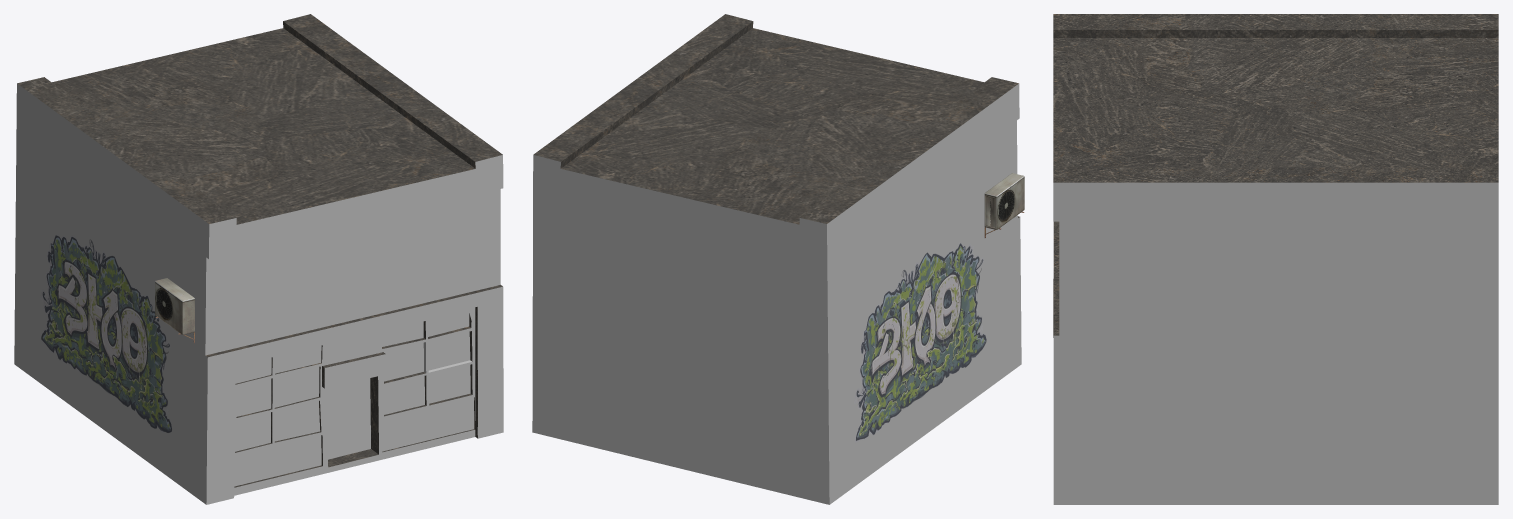
3 renders of one model, left to right at view 1: azimuth 30°, elevation 25°; view 2: azimuth 150°, elevation 25°; view 3: azimuth 270°, elevation 25°, orthographic. The views are drawn at different scales.
Visible parts, largest first — view 1: Building4; view 2: Building4; view 3: Building4.
Part boxes in pixels (box(x1,y1,x2,y2)): Building4: box(14, 14, 503, 504); Building4: box(532, 14, 1024, 504); Building4: box(1053, 14, 1498, 504).
Size of the model in its own units: 8.59 by 7.37 by 9.16.
